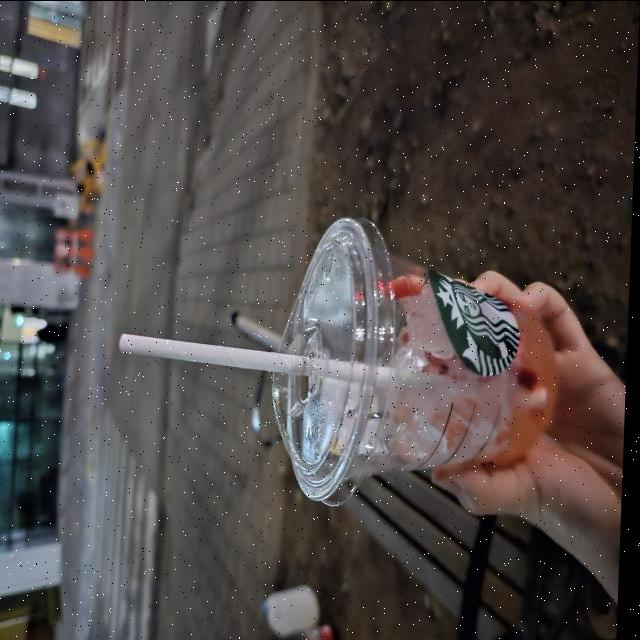cup: (263, 212, 572, 514)
